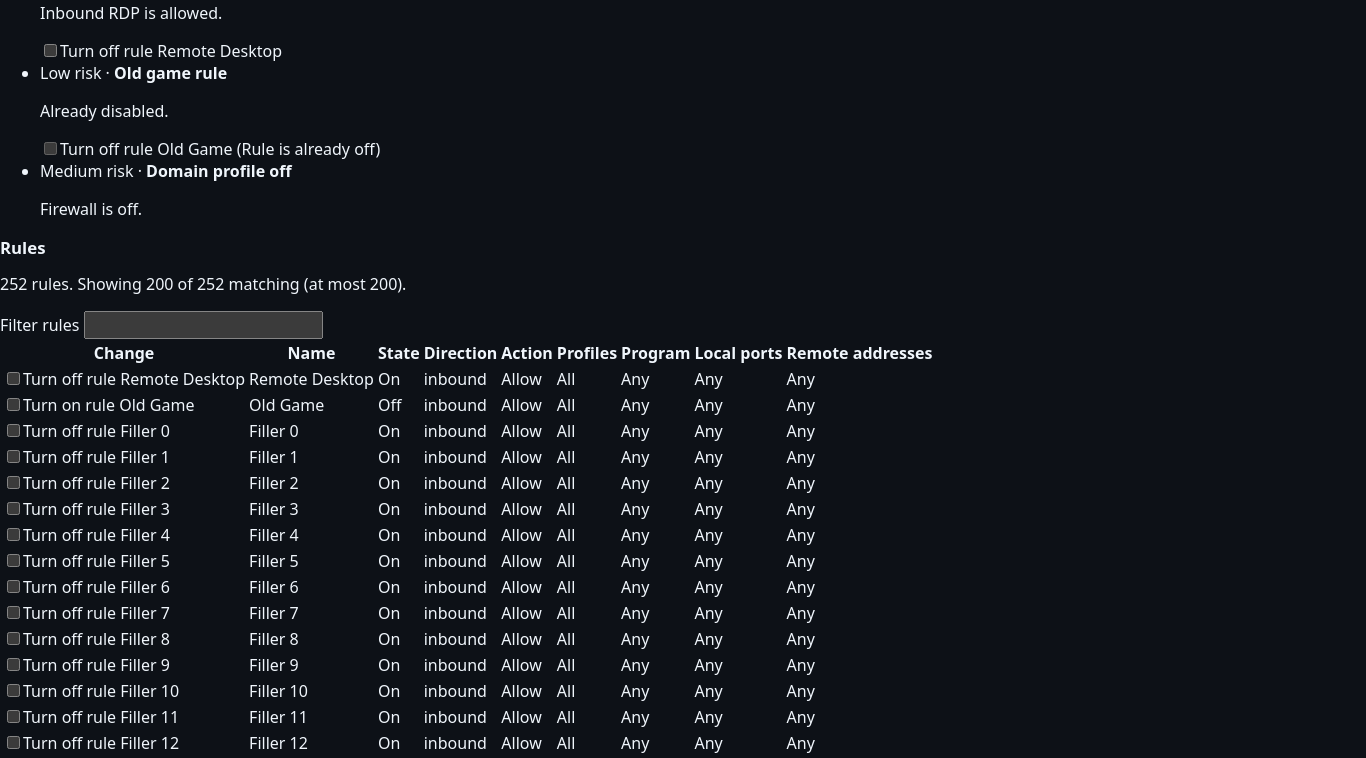
Test: deduplicates a finding and its rule row into one change
The image size is (1366, 758).
(page scrolled)
Click the checkbox labelled "Turn off rule Remote Desktop" below "Filter rules" at (14, 378), box [7,372,20,385]
(page scrolled)
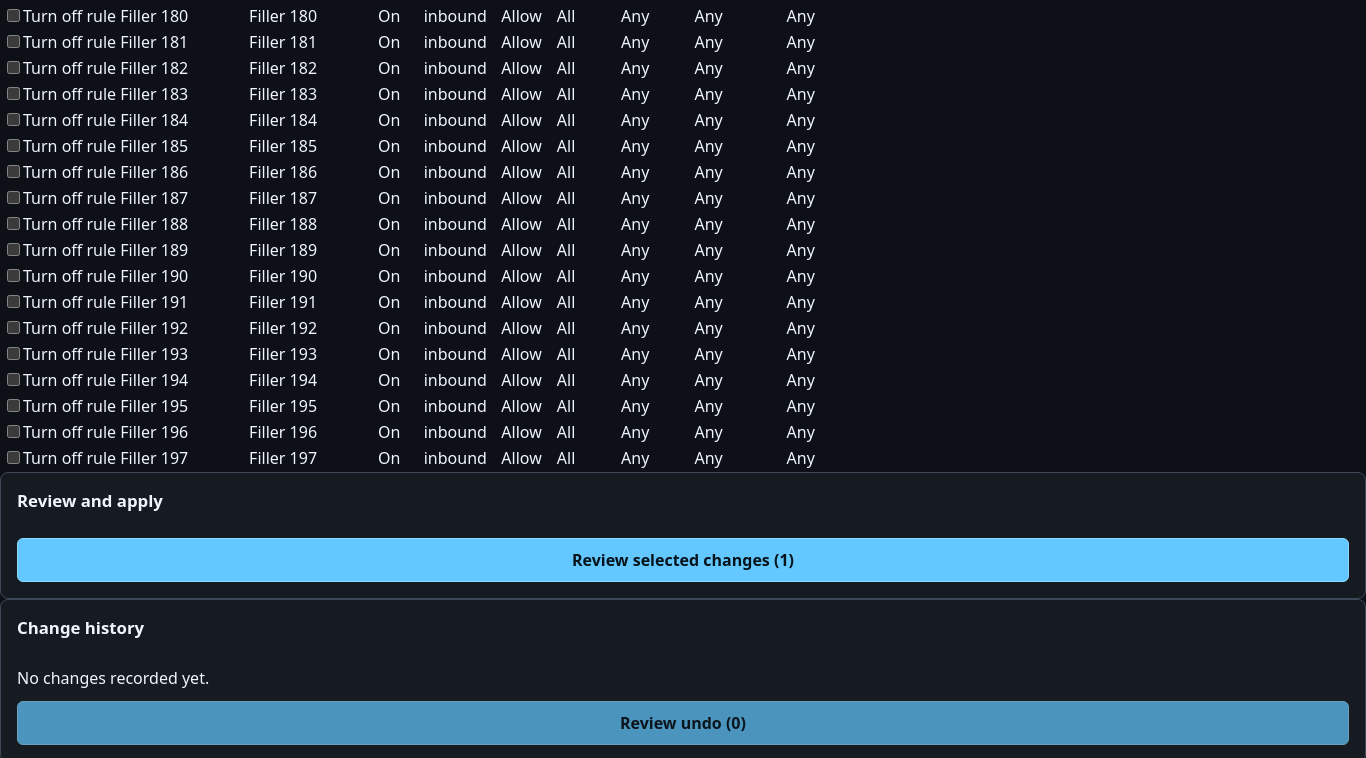
Now the button "Review selected changes (1)" is shown, box [17,538,1349,582]
